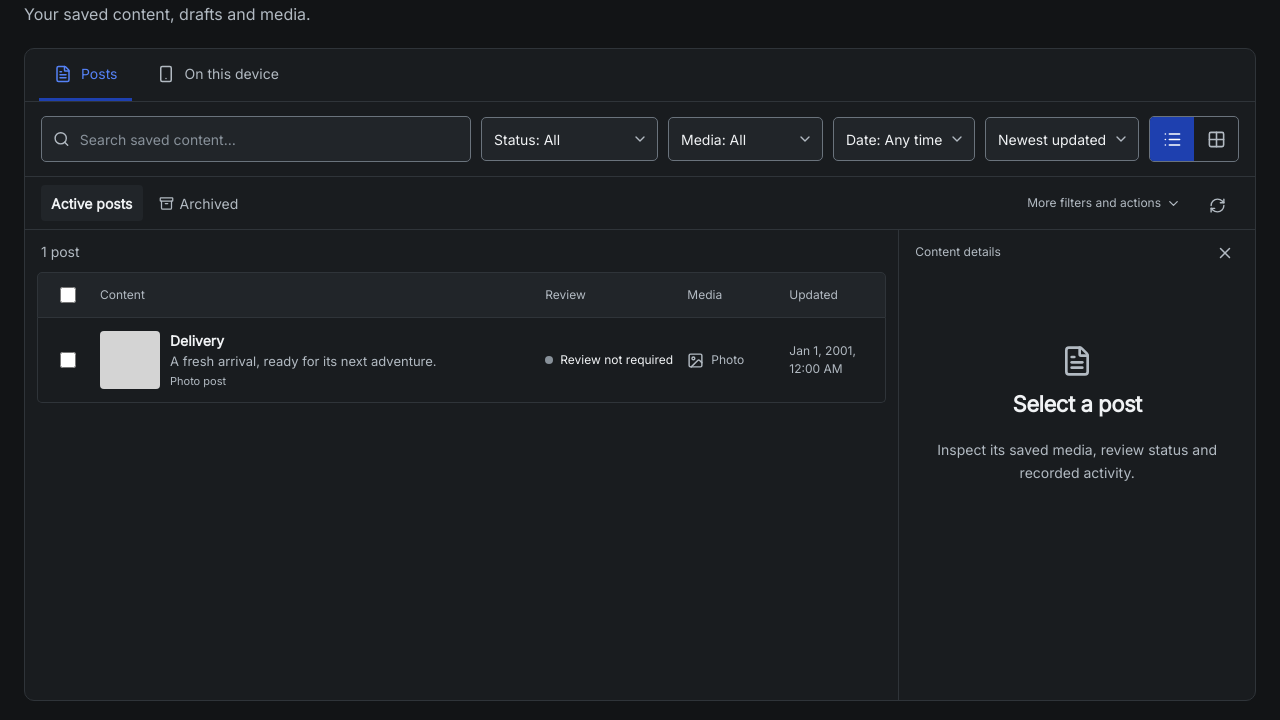
it: Content workspace › confirms archive and submits both CAS revisions for explicit selected IDs
This screenshot has width=1280, height=720.
(page scrolled)
Click the checkbox named "Select Delivery for bulk actions" at (68, 360), box [60, 352, 76, 368]
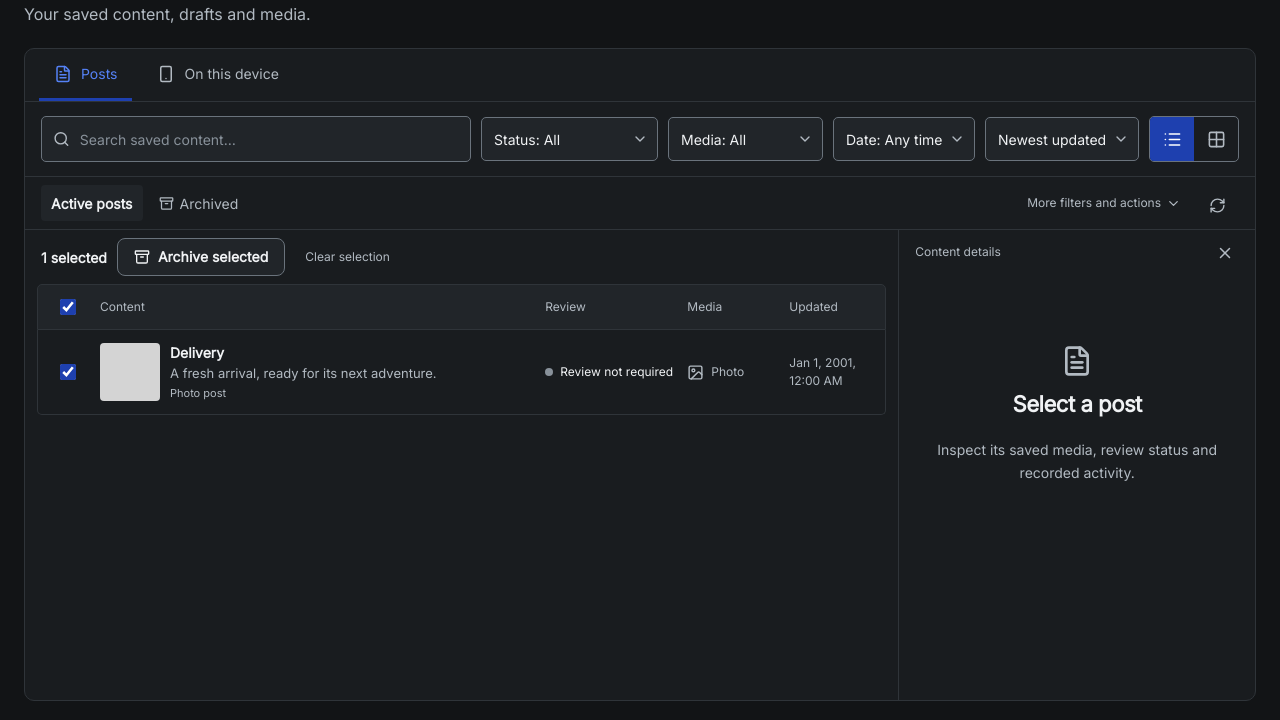
Click the button "Archive selected" at (201, 257), box [117, 238, 285, 276]
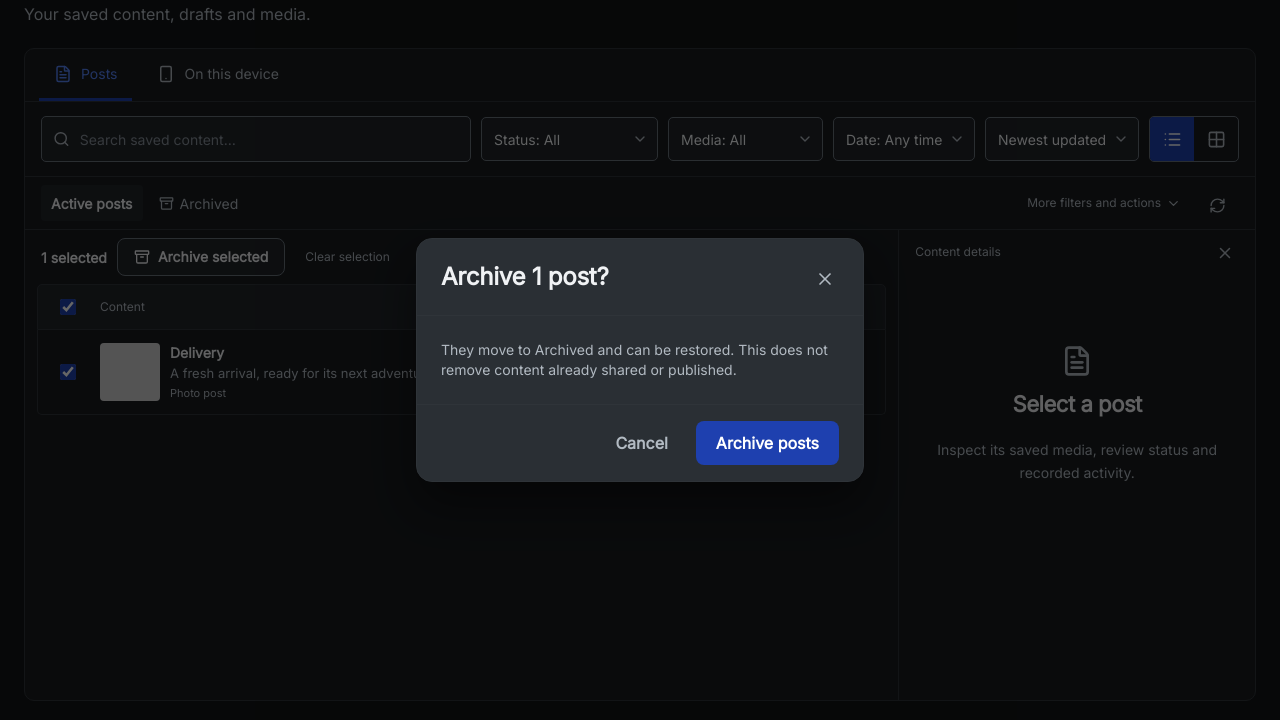
Expected: the text "does not remove content already shared or published" is shown, [441, 341, 828, 378]
Click the button "Archive posts" at (767, 443), box [696, 421, 839, 465]
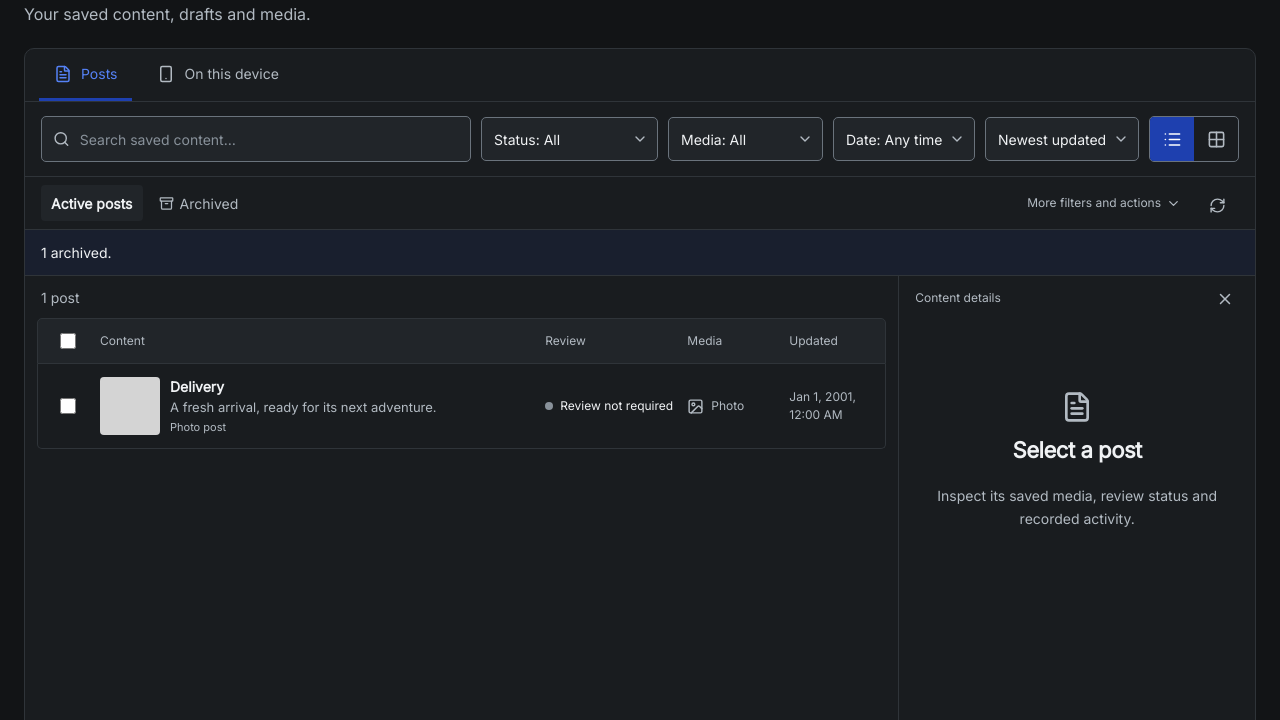
Expected: the text "1 archived." is shown, [25, 230, 1255, 276]
